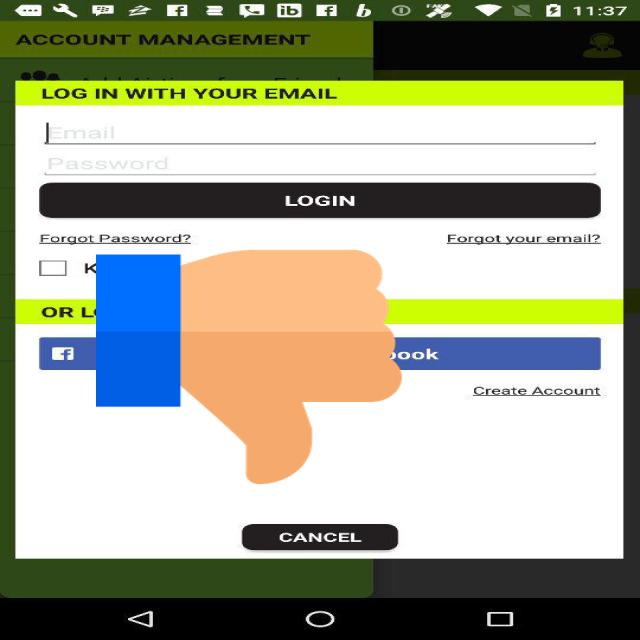obstruction: (96, 244, 402, 490)
